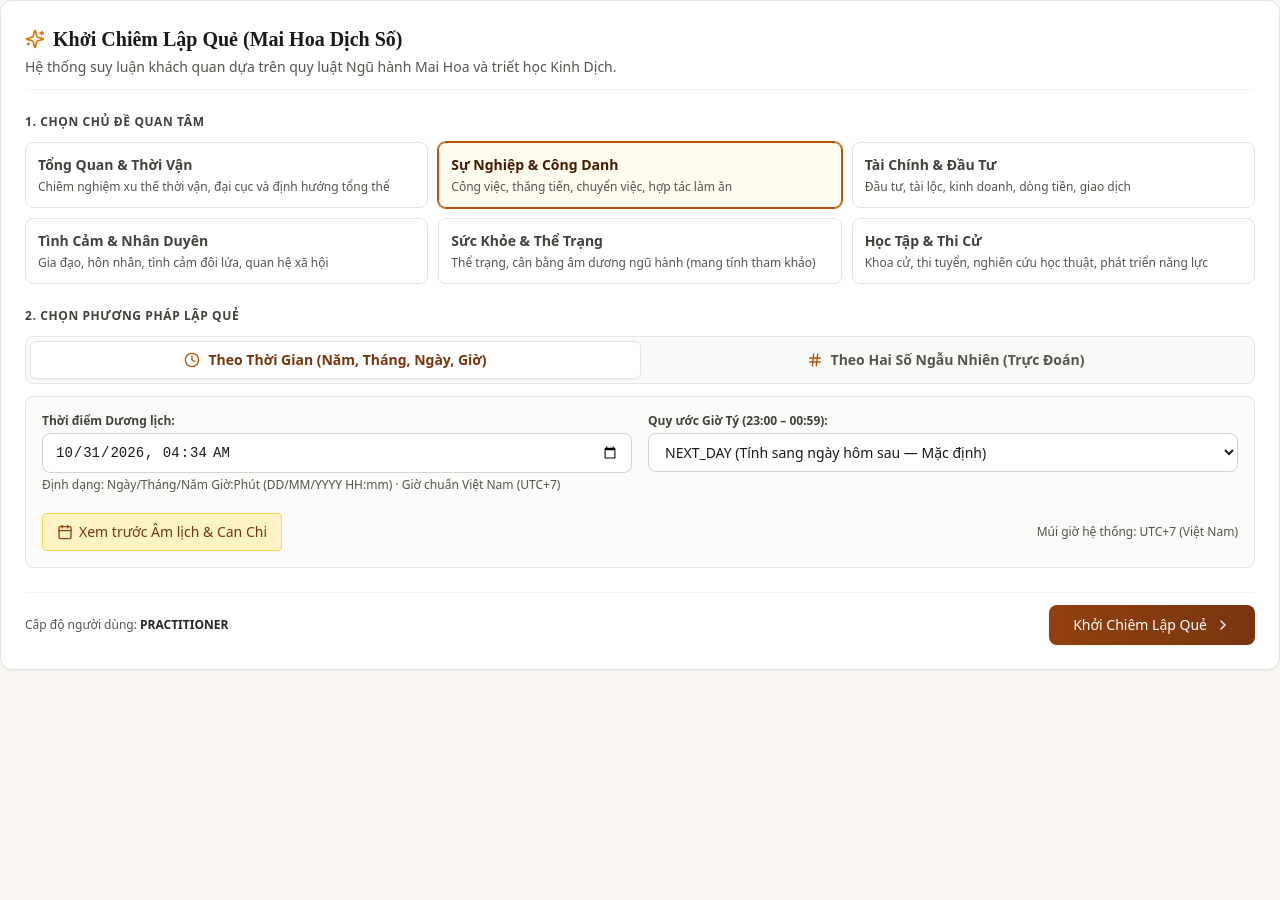
Test: Đợt 2A: Nhãn, Chế độ Kỹ thuật, An toàn & Accessibility › 2. Disclaimer An Toàn & Checkbox Xác Nhận (DivinationForm Safety Gate) › hiển thị cảnh báo ngay khi chọn FINANCE và mở nút gieo quẻ khi tick xác nhận
The image size is (1280, 900).
Note: Click chọn Tài Chính
Click the button "Tài Chính & Đầu Tư": click(1053, 175) [852,142,1255,208]
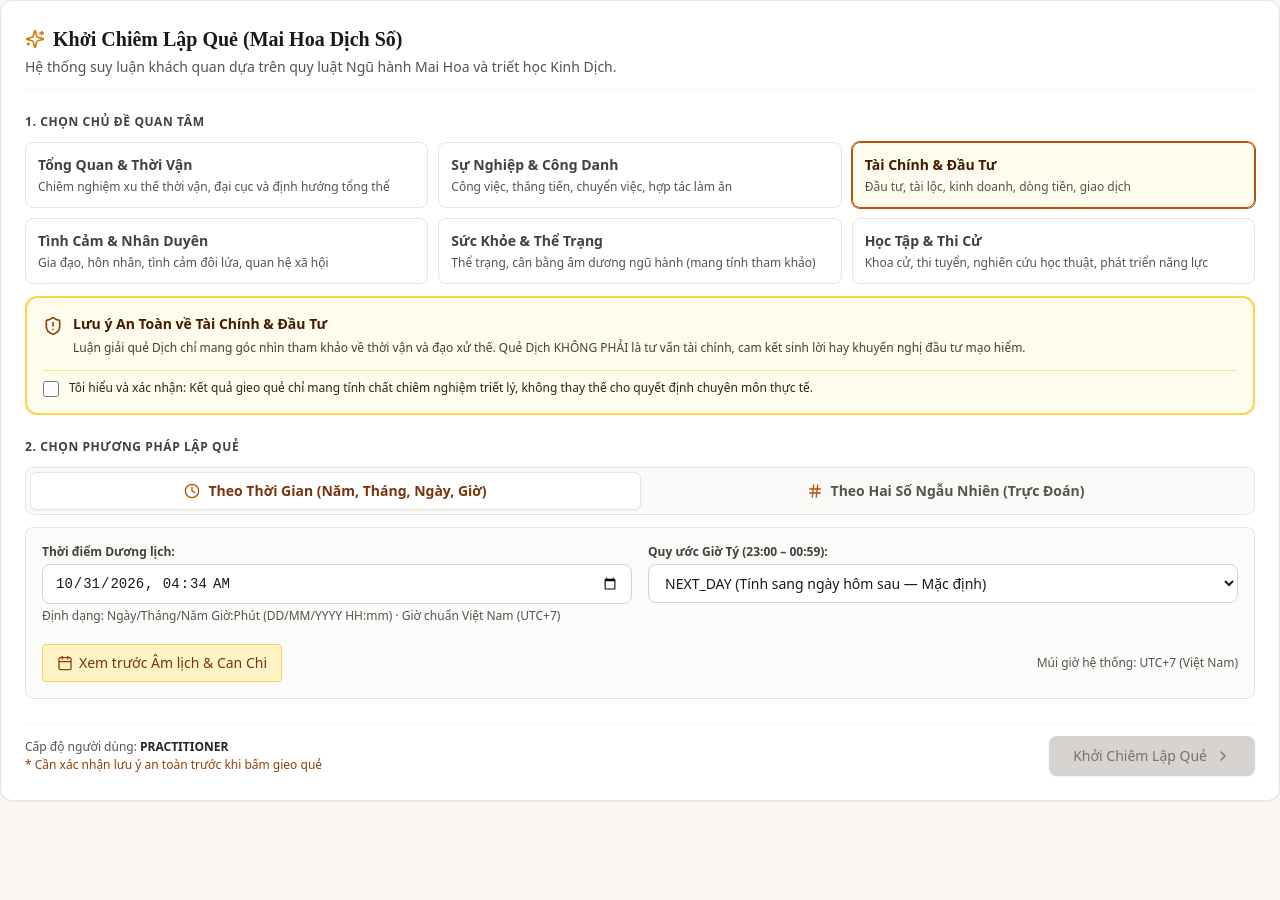
Expected: the heading "Lưu ý An Toàn về Tài Chính & Đầu Tư" is shown, [73,314,327,333]
Expected: the text "KHÔNG PHẢI là tư vấn tài chính" is shown, [73,339,1026,356]
Expected: the button "Khởi Chiêm Lập Quẻ" is disabled, [1049,736,1255,776]
Note: Tick checkbox
Click the checkbox: click(51, 388) [43,380,59,396]
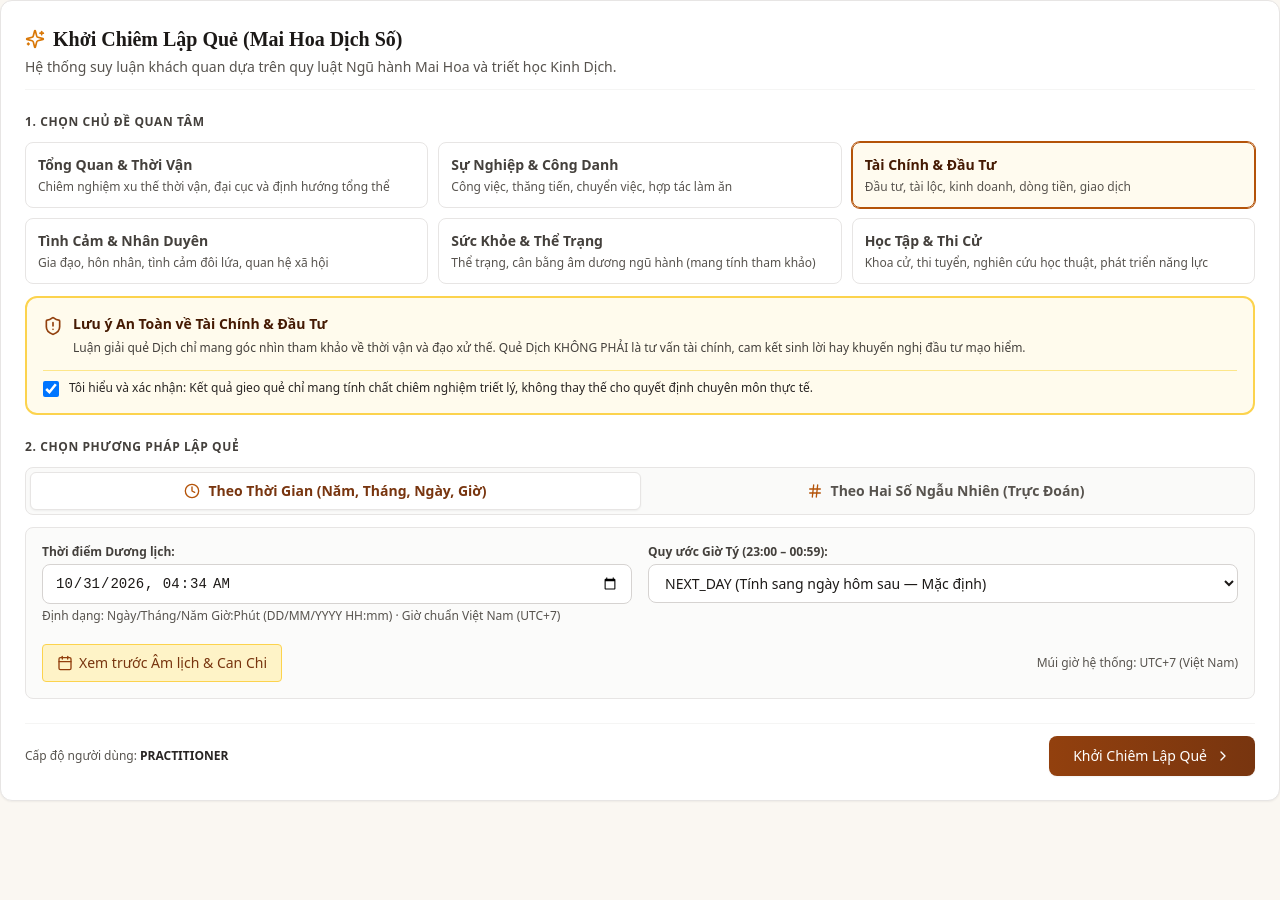
Expected: the button "Khởi Chiêm Lập Quẻ" is enabled, [1049,736,1255,776]
